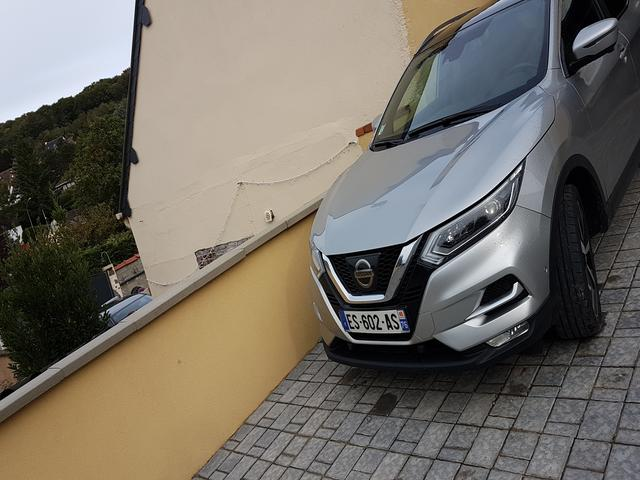Quashquai: (327, 300, 420, 346)
